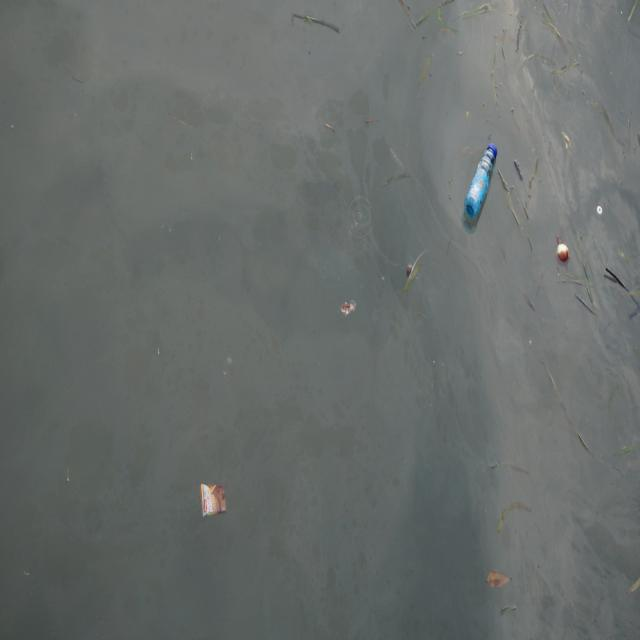Botol Plastik: (463, 141, 501, 225)
Bungkus Makanan: (195, 478, 229, 522)
